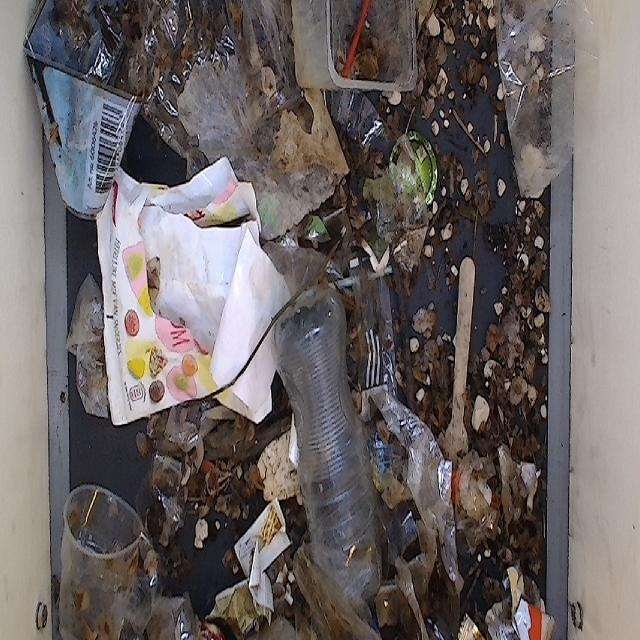caps_and_lids: (391, 132, 441, 226)
food_packaging: (276, 0, 431, 102)
food_wrapping: (74, 158, 288, 428), (16, 0, 146, 226)
pet_bottles: (272, 281, 398, 611)
plastic_cups: (61, 469, 159, 640)
plastic_films: (95, 0, 342, 252), (348, 333, 479, 600), (487, 0, 605, 208)
